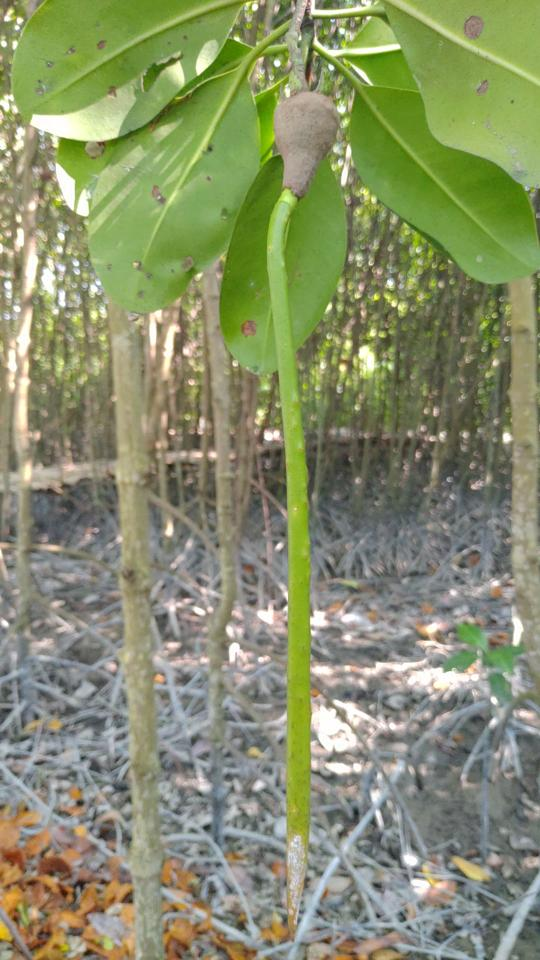setengah matang: (237, 70, 358, 934)
